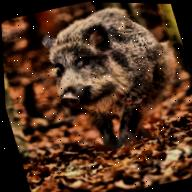boar: (31, 1, 192, 165)
